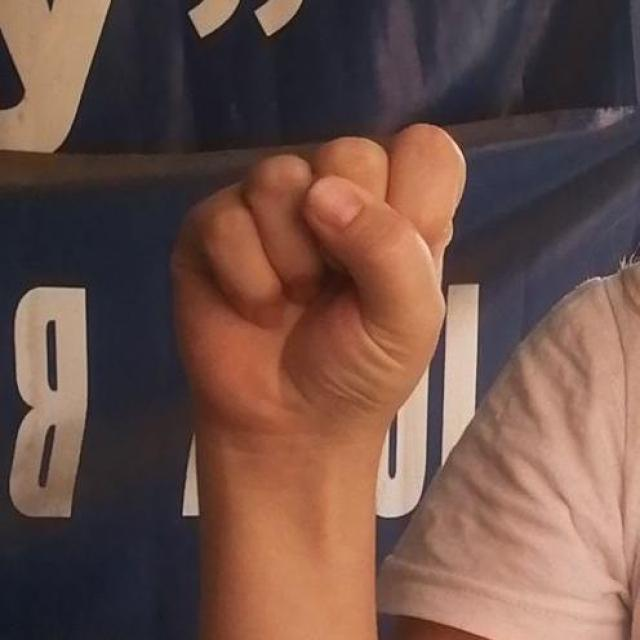hand: (168, 120, 467, 450)
